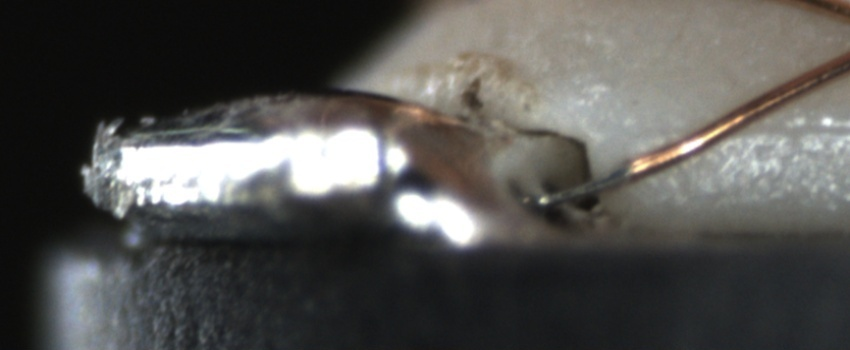DL: (721, 98, 849, 163)
TS: (532, 165, 632, 208)
TTCW: (522, 143, 676, 211)
